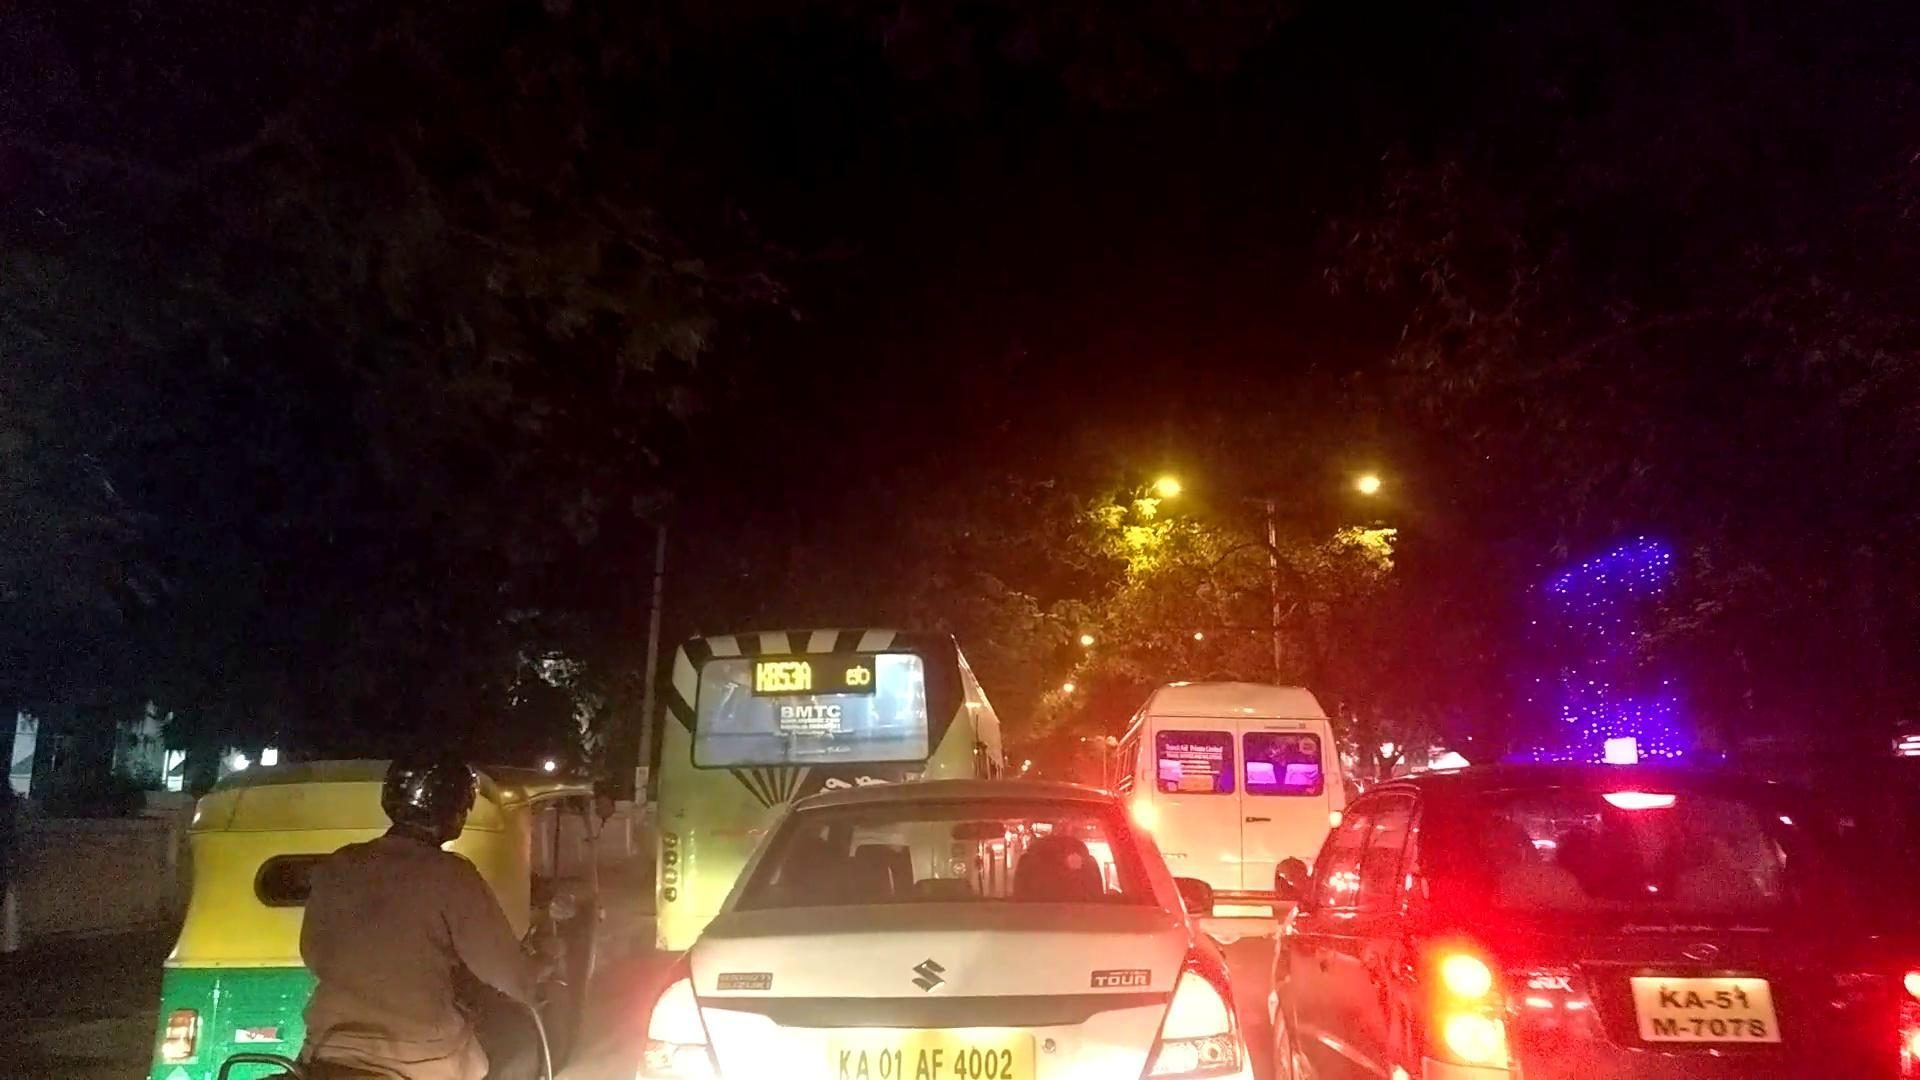on: (80, 0, 1710, 1080)
